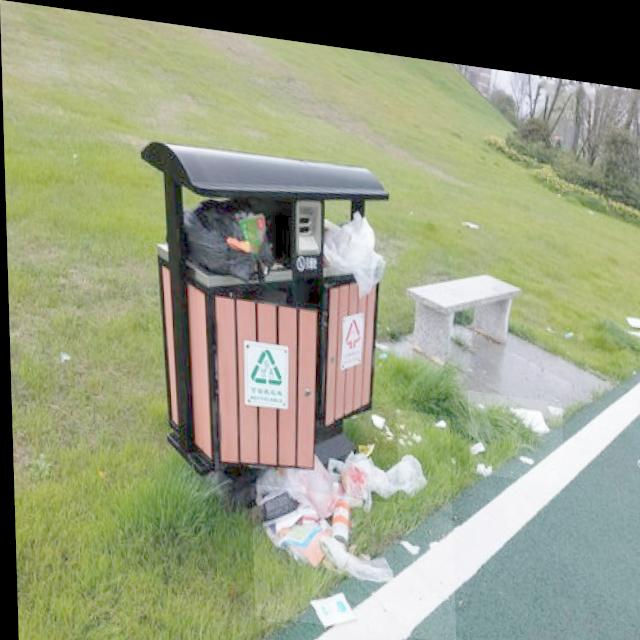garbage: (246, 381, 453, 631), (466, 377, 561, 469)
overflow: (137, 129, 396, 493)
